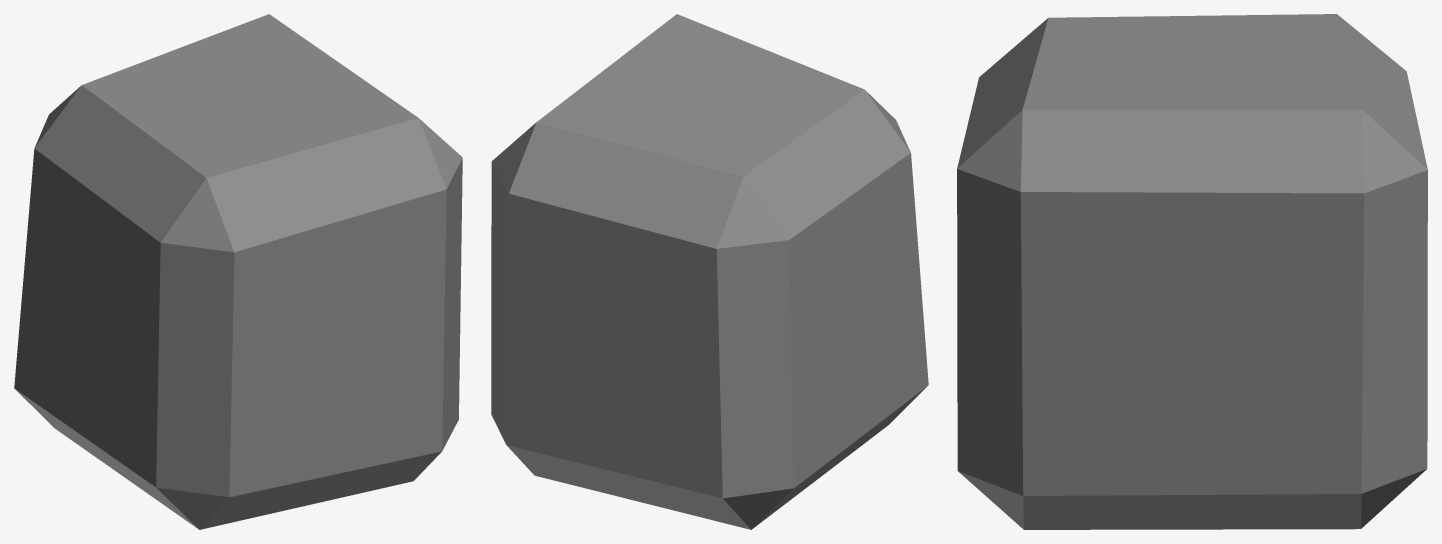
Rendered from Brick_Small_03.fbx.
The picture shows the model from 3 angles, left to right: view 1: azimuth 30°, elevation 25°; view 2: azimuth 150°, elevation 25°; view 3: azimuth 270°, elevation 25°; orthographic projection. The views are drawn at different scales.
Visible parts, largest first — view 1: Brick_Small_03; view 2: Brick_Small_03; view 3: Brick_Small_03.
Boxes of the visible parts, x1,y1,x2,y2 form: Brick_Small_03: [14, 14, 462, 529]; Brick_Small_03: [491, 14, 928, 529]; Brick_Small_03: [957, 14, 1427, 529].
Size of the model in its own units: 18.66 by 21.23 by 21.42.
